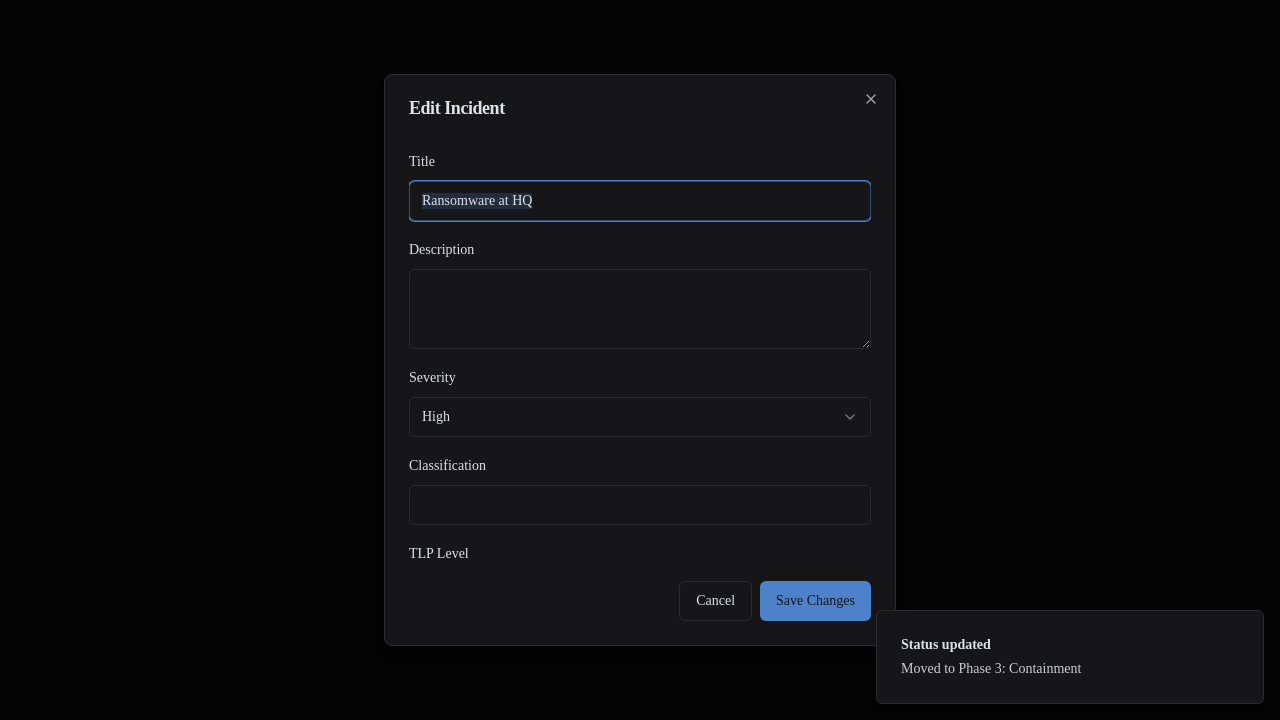
incident modals › a failed save shows a toast instead of failing silently
Step 1. Click the button "Save Changes" → (816,601), box [760,581,871,621]
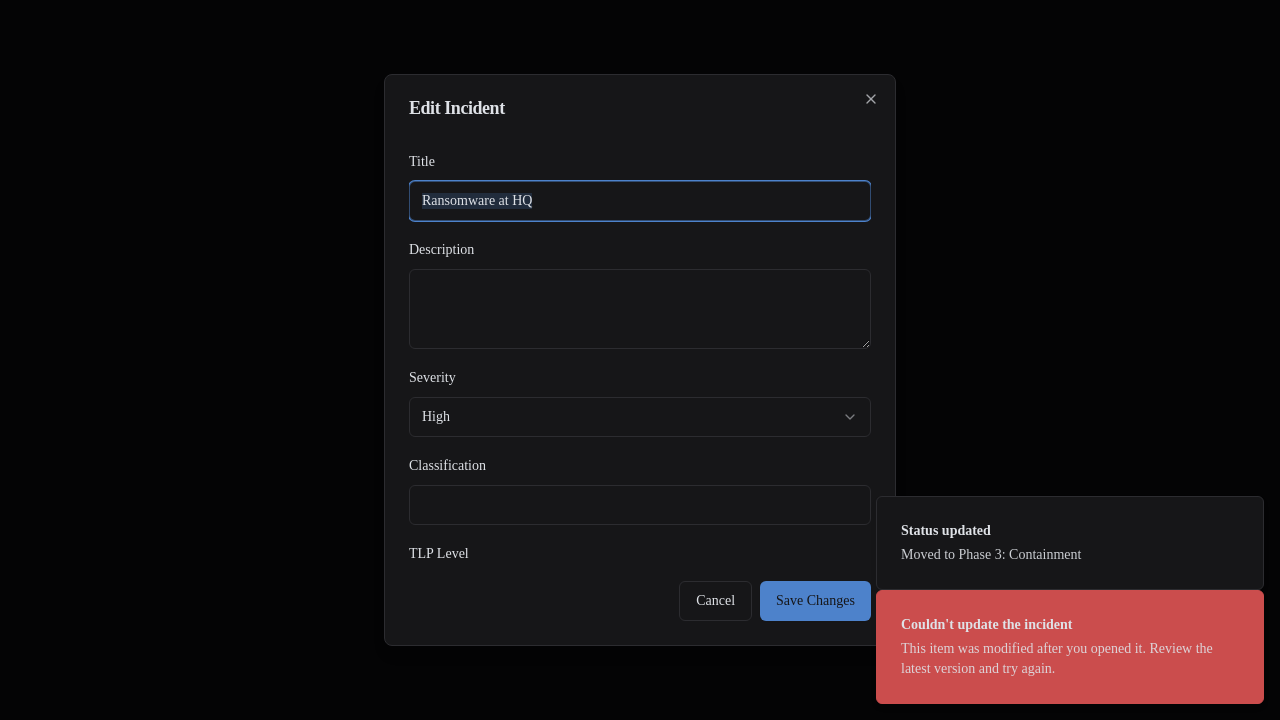
Expected: the text "Couldn't update the incident" is shown, [901,617,1072,632]
